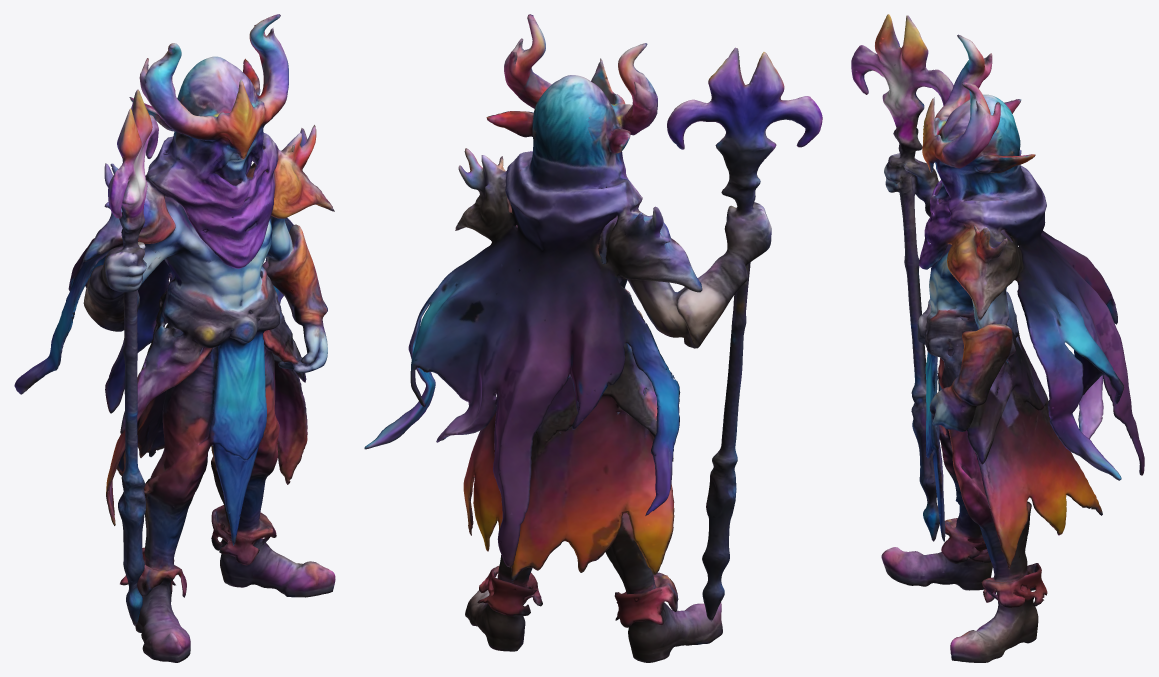
The model's file is knight.glb.
3 renders of one model, left to right at view 1: azimuth 30°, elevation 25°; view 2: azimuth 150°, elevation 25°; view 3: azimuth 270°, elevation 25°, orthographic. The views are drawn at different scales.
Size of the model in its own units: 1.08 by 2 by 0.9503.
1 material, 1 textured.
